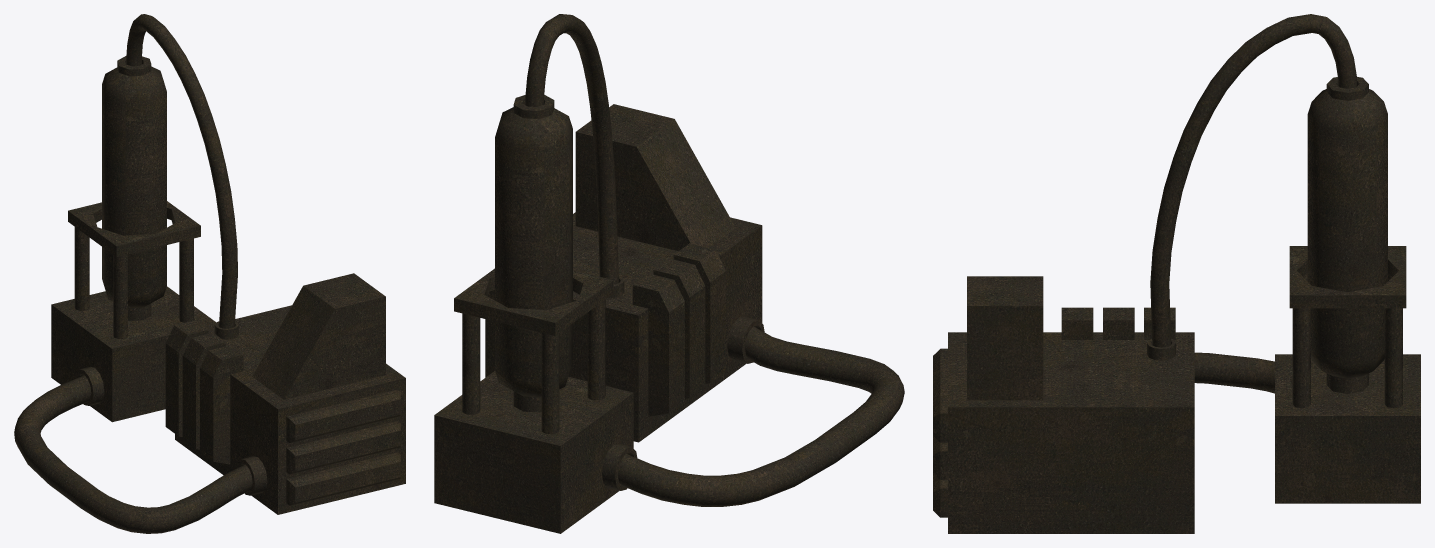
File: test_machine_mx_1.glb
3 views of the same model, side by side, from view 1: azimuth 30°, elevation 25°; view 2: azimuth 150°, elevation 25°; view 3: azimuth 270°, elevation 25° (orthographic). The views are drawn at different scales.
Visible parts, largest first — view 1: test_machine_mx_1; view 2: test_machine_mx_1; view 3: test_machine_mx_1.
Boxes of the visible parts, box(x1,y1,x2,y2) form: test_machine_mx_1: box(14, 14, 405, 533); test_machine_mx_1: box(434, 14, 904, 533); test_machine_mx_1: box(933, 14, 1420, 533).
Size of the model in its own units: 2.66 by 3.52 by 3.4.
Materials: 1 (1 with a texture image).
